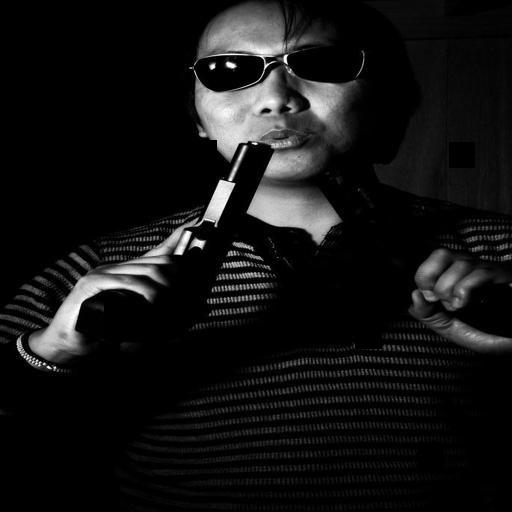Handgun: (67, 136, 272, 356), (318, 143, 510, 334)
